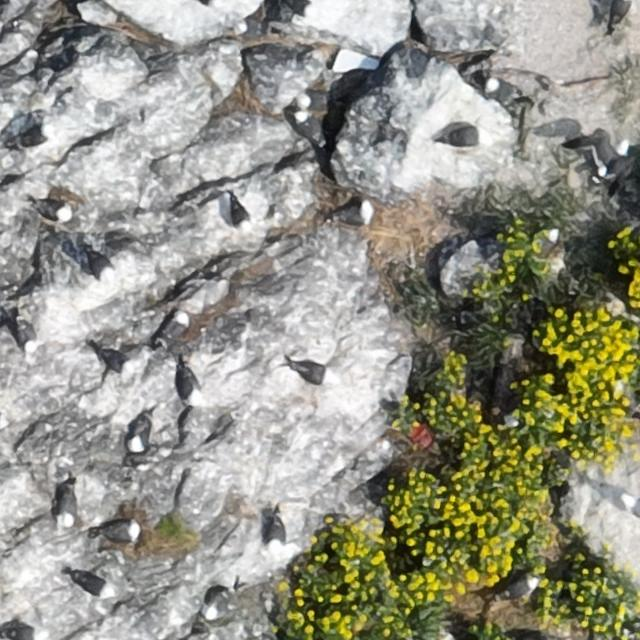F: (584, 126, 632, 189)
umineko: (290, 89, 338, 114), (181, 362, 205, 407), (292, 112, 327, 141), (97, 350, 139, 372), (440, 126, 480, 146), (488, 81, 526, 101), (76, 575, 111, 595), (84, 253, 112, 278), (334, 205, 370, 224), (292, 363, 327, 382), (163, 312, 188, 338), (103, 522, 139, 540), (502, 579, 536, 598), (39, 200, 70, 220), (16, 128, 50, 145), (206, 592, 229, 616), (60, 490, 76, 524), (17, 320, 35, 350), (230, 202, 249, 230), (536, 230, 558, 251), (130, 427, 149, 451), (269, 521, 284, 550), (10, 626, 39, 639), (625, 497, 639, 522), (611, 0, 628, 19)
